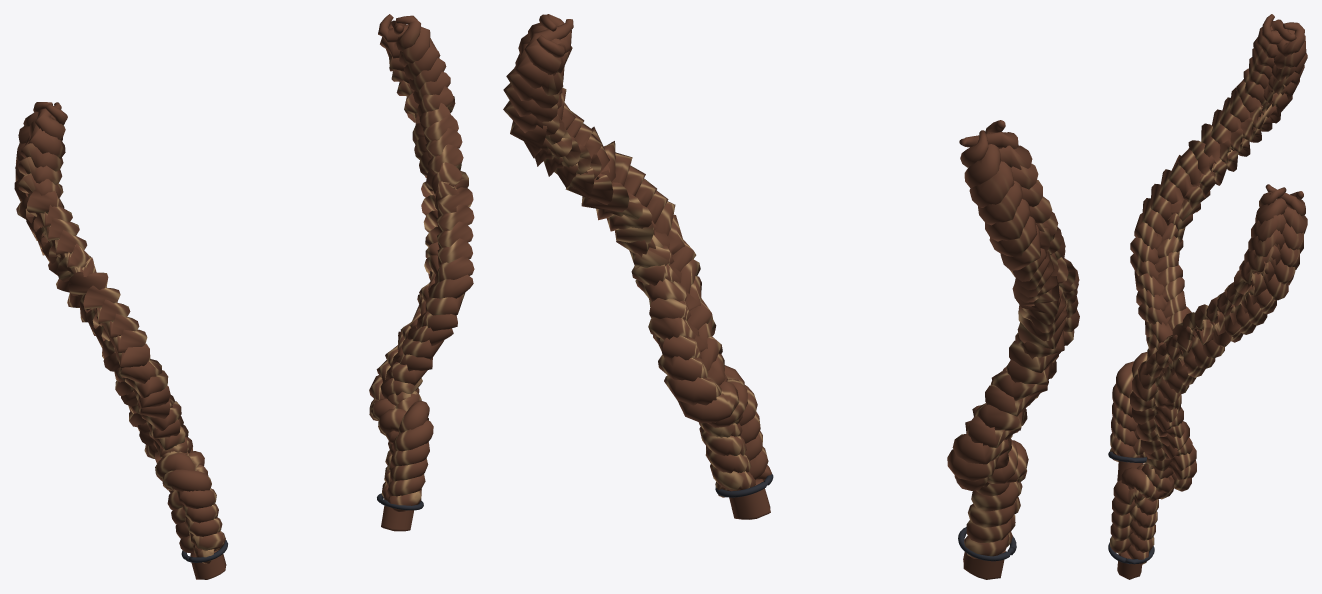
Rendered from Highlights-87a7004c0723252-hair.glb.
3 views of the same model, side by side, from view 1: azimuth 30°, elevation 25°; view 2: azimuth 150°, elevation 25°; view 3: azimuth 270°, elevation 25° (orthographic). The views are drawn at different scales.
Visible parts, largest first — view 1: 226 hairLengths / Hair / chestnut226, 226 hairLengths / Hair / ties226; view 2: 226 hairLengths / Hair / chestnut226, 226 hairLengths / Hair / ties226; view 3: 226 hairLengths / Hair / chestnut226, 226 hairLengths / Hair / ties226.
Boxes of the visible parts, x1,y1,x2,y2 form: 226 hairLengths / Hair / chestnut226: (14,14,474,579); 226 hairLengths / Hair / ties226: (181,493,423,562); 226 hairLengths / Hair / chestnut226: (503,14,1079,579); 226 hairLengths / Hair / ties226: (715,474,1016,561); 226 hairLengths / Hair / chestnut226: (1110,14,1307,579); 226 hairLengths / Hair / ties226: (1108,451,1154,564).
Bounding box in the file's own units: 1.09 × 1.06 × 0.4449.
2 materials, 1 textured.
